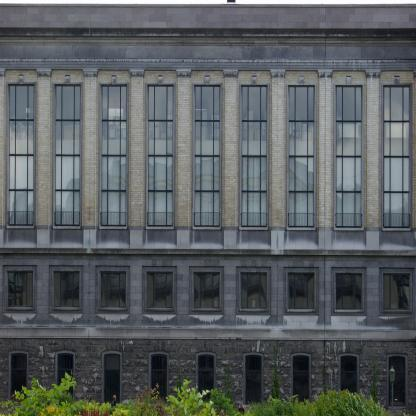Building Outline: (0, 4, 416, 416)
Dont: (0, 369, 389, 416), (389, 366, 395, 416)
Facade: (0, 4, 416, 416)
Floor: (0, 4, 416, 141), (0, 147, 416, 243), (0, 248, 416, 333)
Floor Slab: (0, 141, 416, 147), (0, 243, 416, 248), (0, 333, 416, 338)
Ground Floor: (0, 338, 415, 416)
Pillar: (129, 70, 145, 248), (365, 70, 380, 250), (223, 70, 238, 249), (270, 70, 285, 249), (318, 70, 333, 249), (83, 70, 98, 248), (176, 70, 191, 248), (37, 70, 52, 248), (0, 69, 6, 248), (413, 70, 416, 250)
Window: (384, 86, 409, 226), (195, 86, 220, 226), (289, 86, 314, 226), (56, 86, 80, 226), (102, 86, 126, 226), (149, 86, 173, 226), (242, 86, 266, 226), (337, 86, 361, 226), (10, 86, 34, 226), (8, 272, 33, 308), (101, 272, 126, 308), (388, 356, 405, 408), (150, 353, 167, 405), (245, 354, 262, 406), (340, 355, 357, 407), (384, 274, 409, 309), (10, 353, 27, 404), (197, 354, 214, 405), (55, 272, 79, 308), (148, 272, 172, 308), (195, 272, 219, 308), (242, 272, 266, 308), (289, 273, 313, 308), (337, 274, 361, 309), (104, 353, 120, 405), (57, 353, 73, 404), (293, 355, 309, 406)
